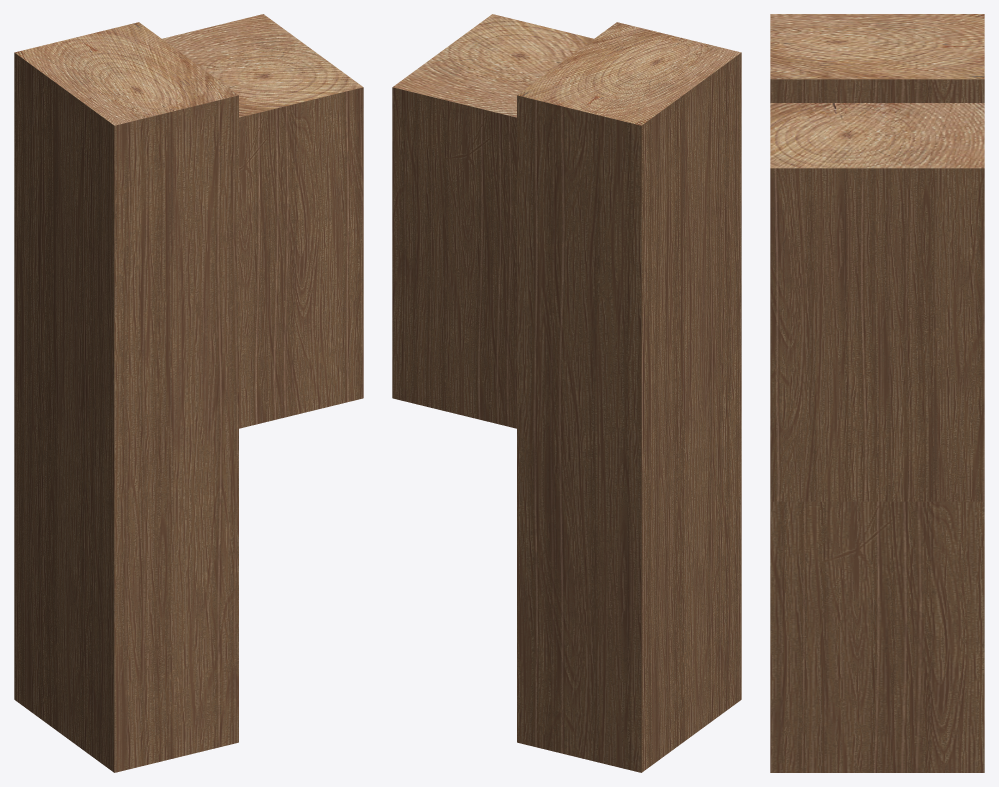
The model's file is GuardrailPost.fbx.
The picture shows the model from 3 angles, left to right: view 1: azimuth 30°, elevation 25°; view 2: azimuth 150°, elevation 25°; view 3: azimuth 270°, elevation 25°; orthographic projection. The views are drawn at different scales.
Parts seen in each view (by area): view 1: GuardrailPost; view 2: GuardrailPost; view 3: GuardrailPost.
Boxes of the visible parts, x1,y1,x2,y2 form: GuardrailPost: (14,14,363,772); GuardrailPost: (392,14,741,772); GuardrailPost: (770,14,984,772).
Size of the model in its own units: 27.15 by 18.89 by 67.4.
1 material, 1 textured.
